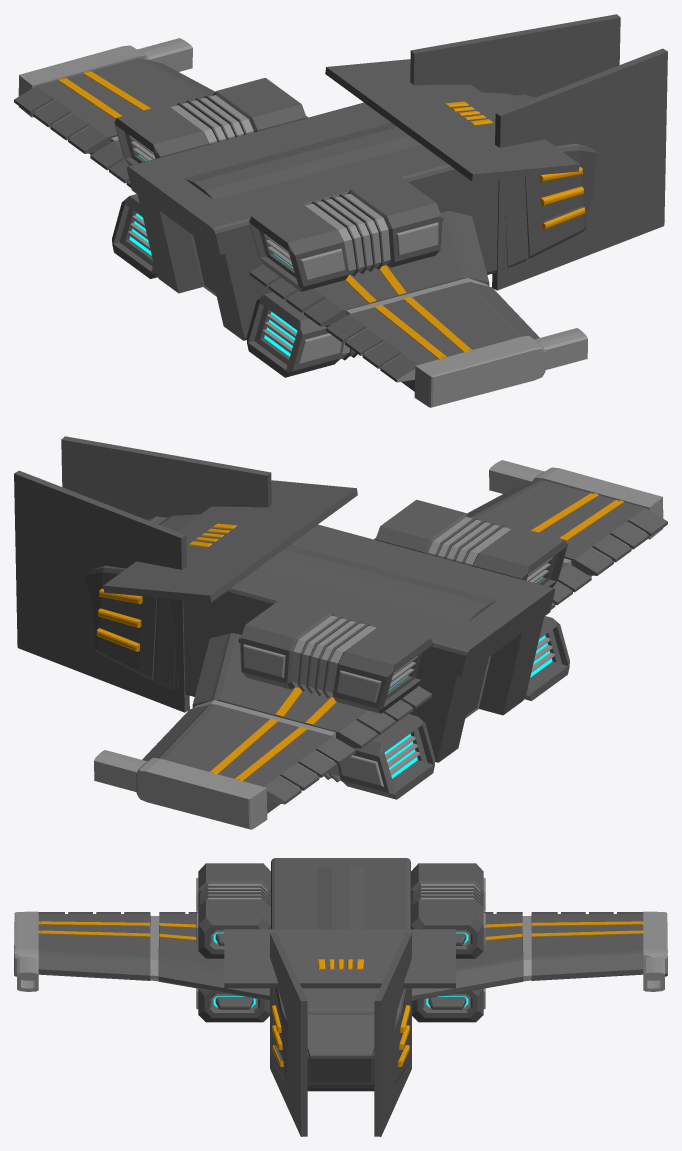
File: Starting_room.fbx
The picture shows the model from 3 angles, top to bottom: view 1: azimuth 30°, elevation 25°; view 2: azimuth 150°, elevation 25°; view 3: azimuth 270°, elevation 25°; orthographic projection. The views are drawn at different scales.
Parts seen in each view (by area): view 1: Cube; view 2: Cube; view 3: Cube.
Boxes of the visible parts, x1,y1,x2,y2 form: Cube: (14,14,667,407); Cube: (14,436,667,829); Cube: (14,858,667,1136).
Size of the model in its own units: 1481 by 535 by 2250.
